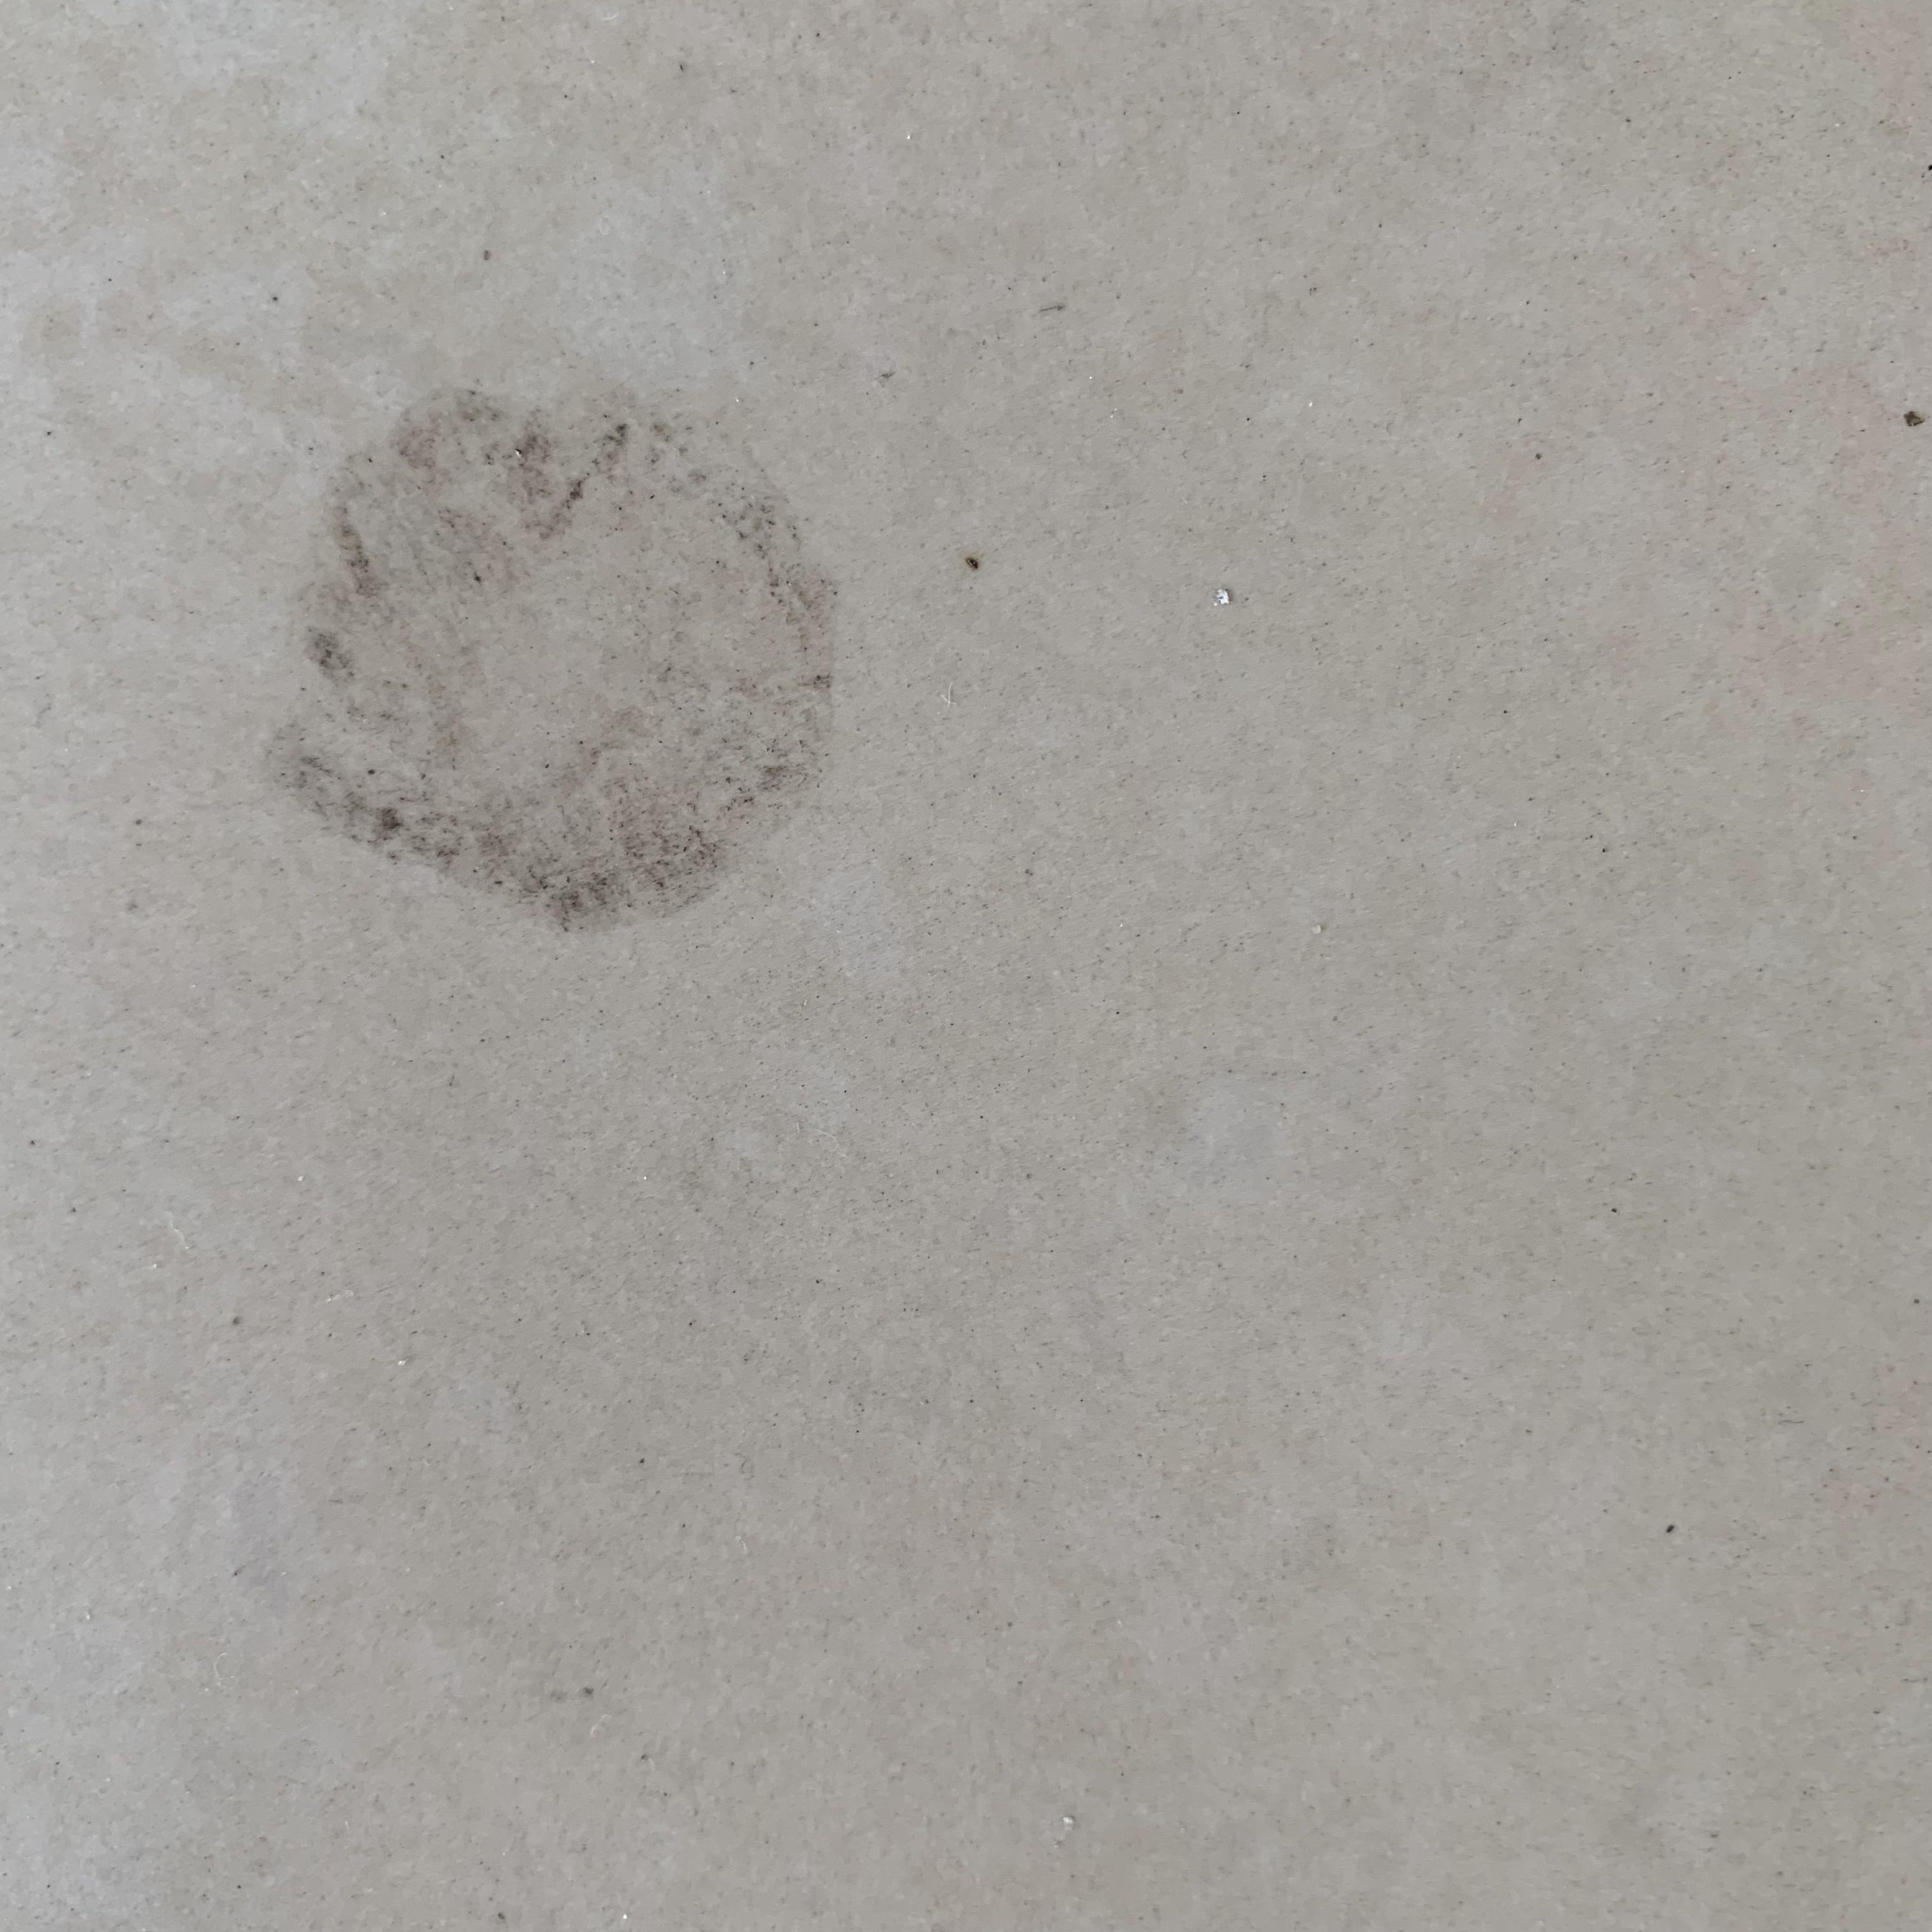grey spot: (262, 387, 842, 929)
